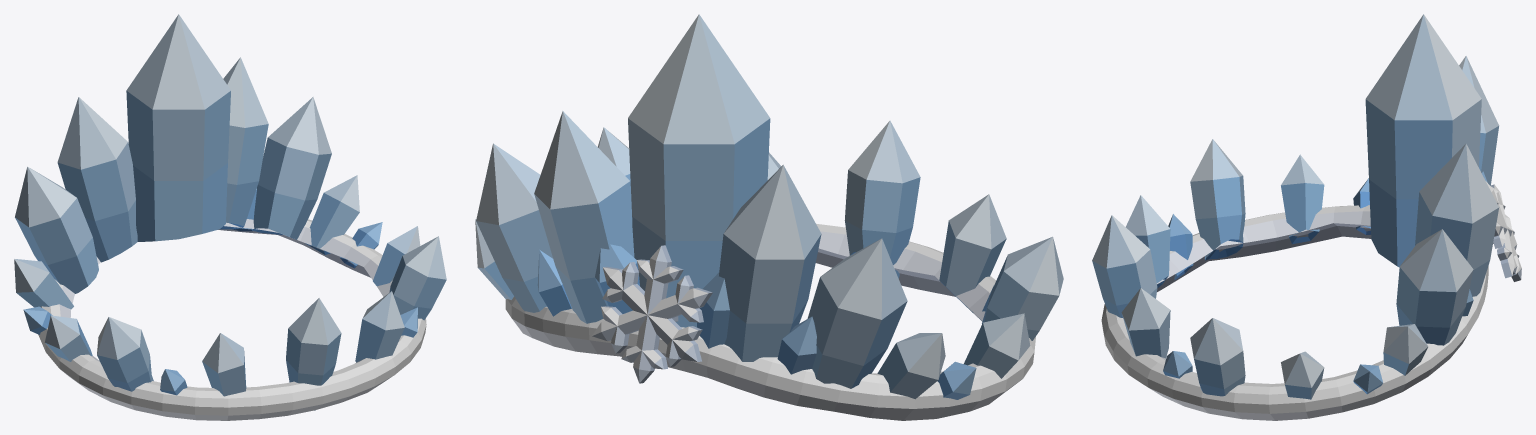
File: Cosmetic_Frost_Crown.glb
3 views of the same model, side by side, from view 1: azimuth 30°, elevation 25°; view 2: azimuth 150°, elevation 25°; view 3: azimuth 270°, elevation 25° (orthographic). The views are drawn at different scales.
Visible parts, largest first — view 1: Cosmetic_Frost_Crown; view 2: Cosmetic_Frost_Crown; view 3: Cosmetic_Frost_Crown.
Part boxes in pixels (x1=…): Cosmetic_Frost_Crown: x1=14, y1=14, x2=446, y2=420; Cosmetic_Frost_Crown: x1=475, y1=14, x2=1063, y2=420; Cosmetic_Frost_Crown: x1=1092, y1=14, x2=1521, y2=420.
Size of the model in its own units: 1.02 by 0.7819 by 0.9234.
